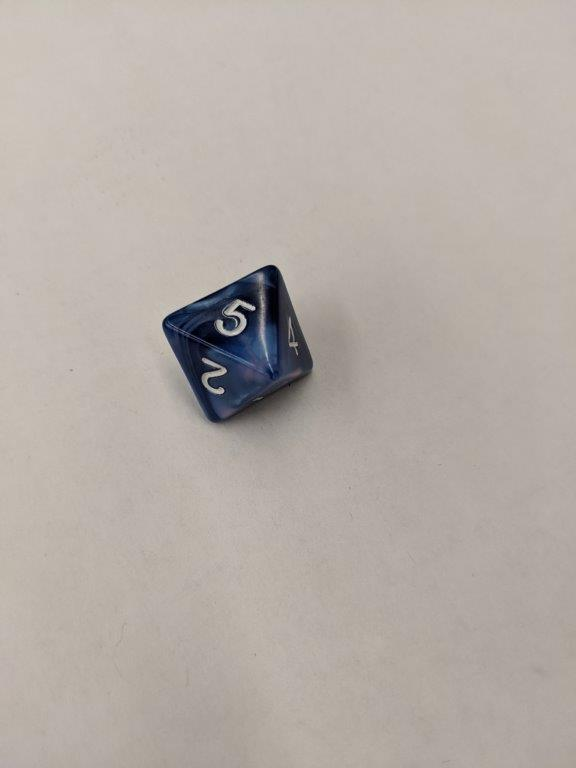d8-5: (159, 264, 314, 425)
